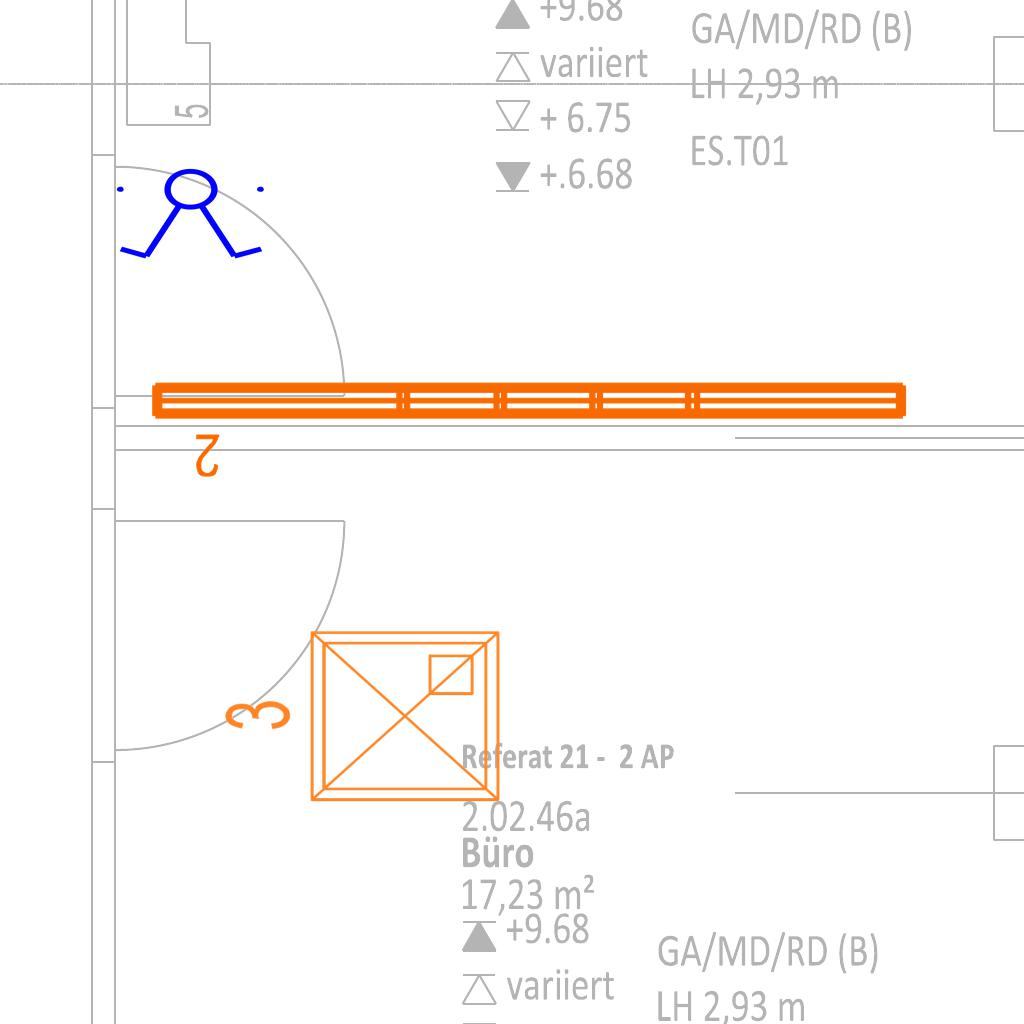Ambulanz_Pendelleuchte_LED: (143, 370, 917, 482)
Einbaudownlights_LED_Konferenzraeume: (214, 616, 514, 824)
Serienschalter: (108, 167, 276, 263)
